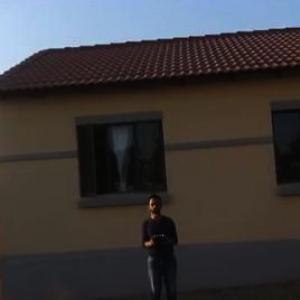follow: (137, 188, 184, 299)
